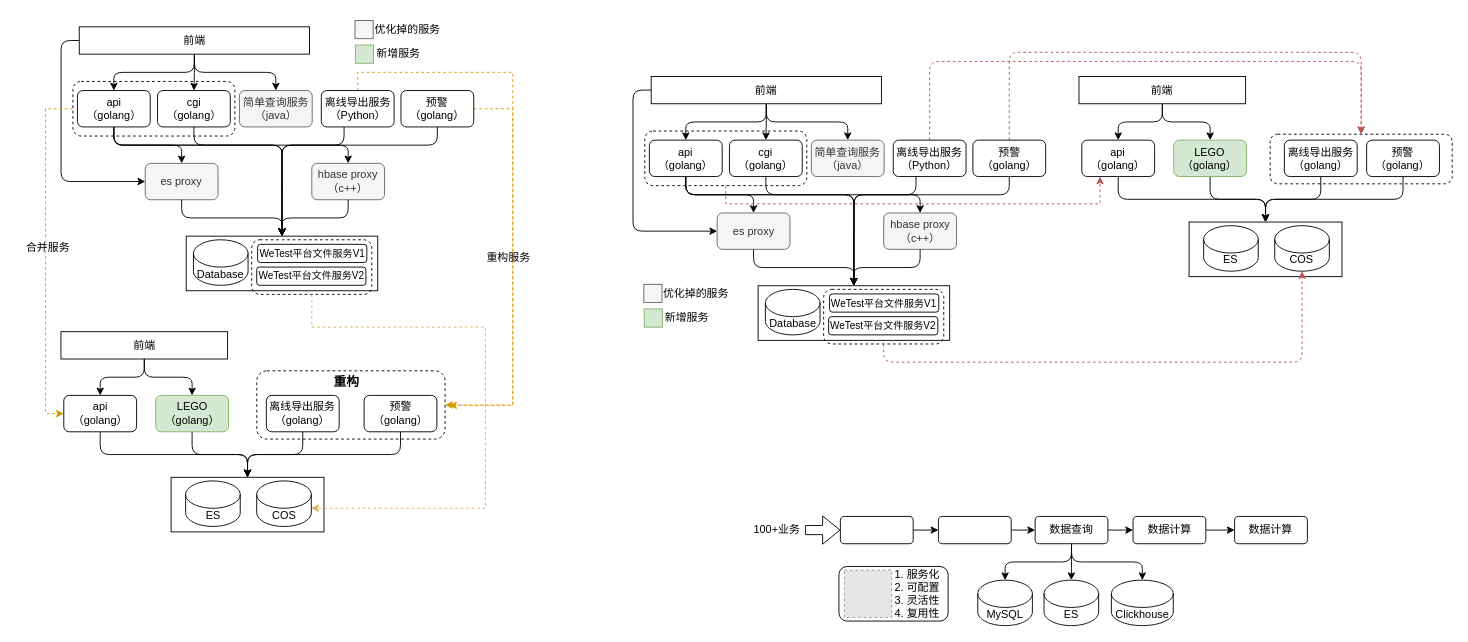
This 1468x642 diagram has some shape labels left out. Grey dashed boxes stand in for pictures. Each missing label, with the box of its shape:
参数校验: (937, 516, 1011, 544)
路由匹配: (839, 516, 913, 544)
